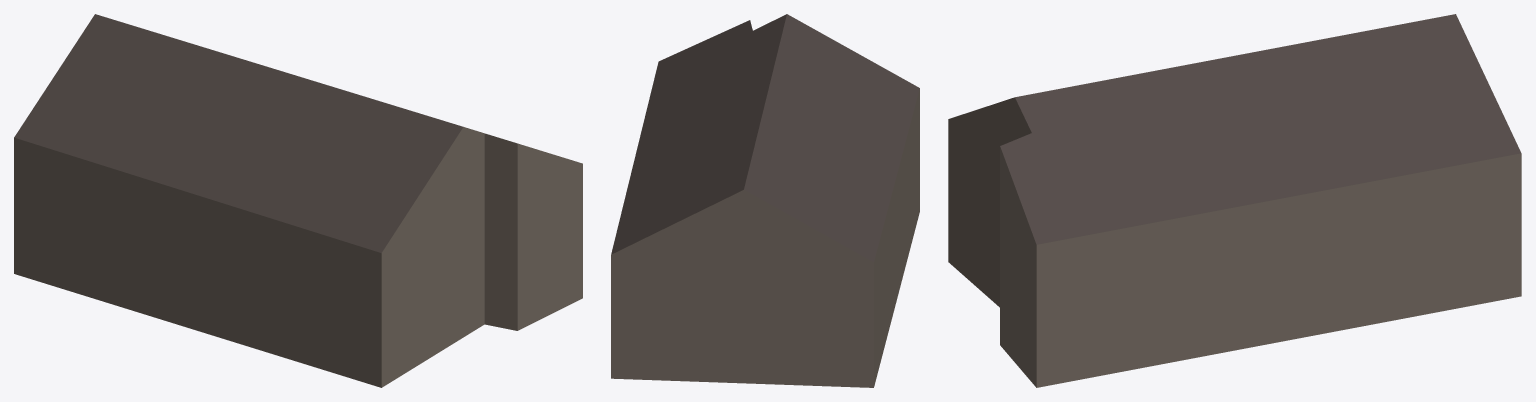
3 renders of one model, left to right at view 1: azimuth 30°, elevation 25°; view 2: azimuth 150°, elevation 25°; view 3: azimuth 270°, elevation 25°, orthographic. The views are drawn at different scales.
Parts seen in each view (by area): view 1: HP-w776801044; view 2: HP-w776801044; view 3: HP-w776801044.
Part boxes in pixels (x1=…): HP-w776801044: x1=14, y1=14, x2=582, y2=387; HP-w776801044: x1=611, y1=14, x2=919, y2=387; HP-w776801044: x1=948, y1=14, x2=1521, y2=387.
Bounding box in the file's own units: 18.7 × 9.38 × 21.78.
